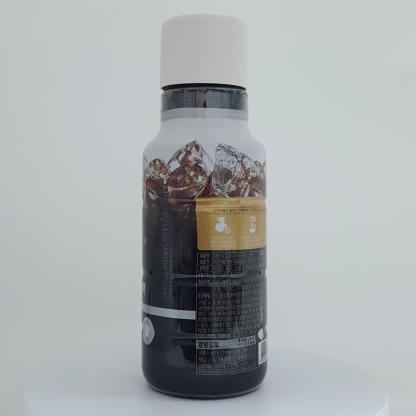-------------1-1L: (141, 14, 268, 399)
